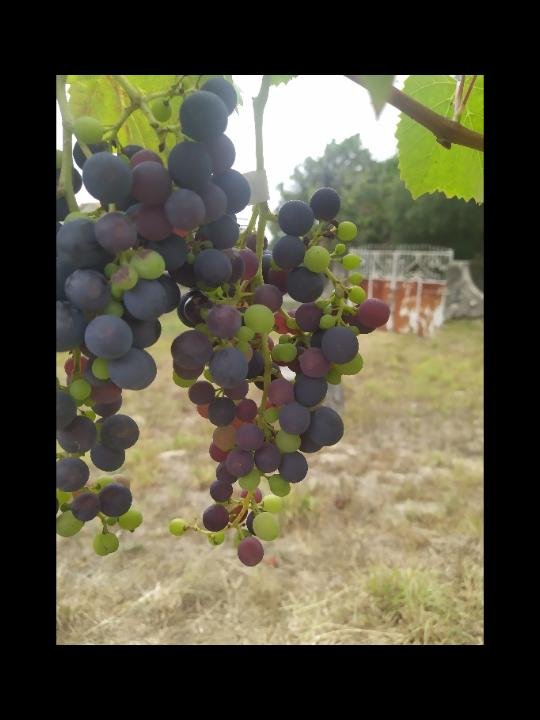grape: (56, 79, 253, 558), (167, 183, 393, 570)
